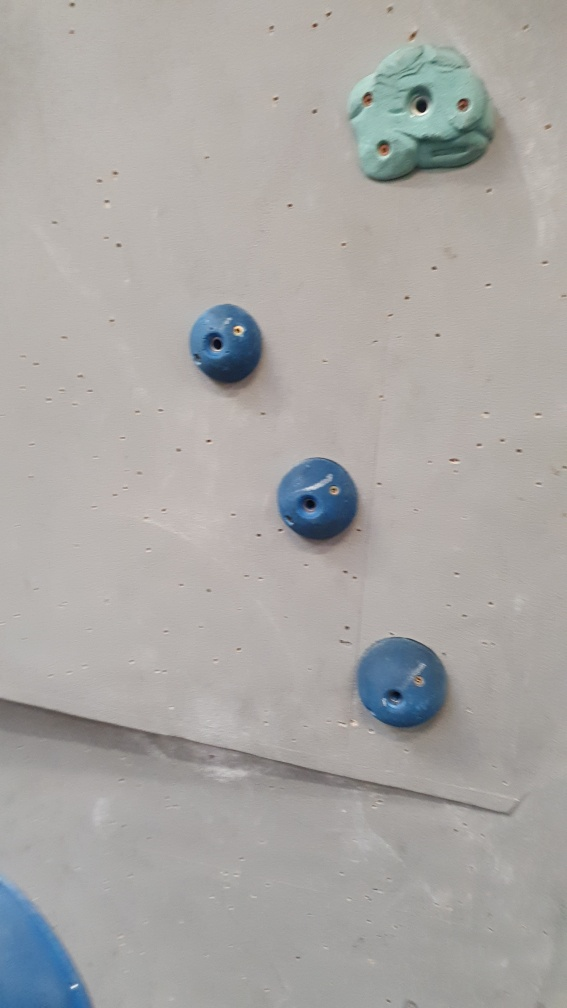Sloper: (352, 623, 453, 738), (271, 450, 364, 550), (185, 300, 271, 390)
